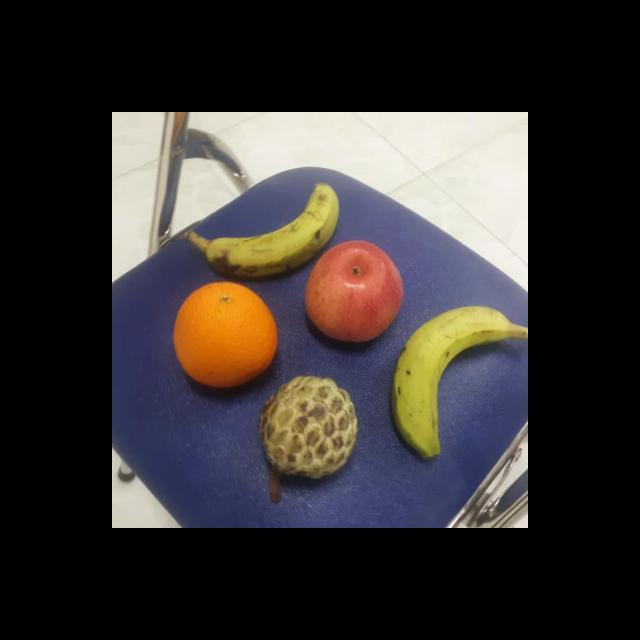Sakya fruit: (256, 373, 360, 480)
apple: (302, 238, 406, 342)
banana: (388, 300, 512, 460), (205, 176, 342, 278)
orange: (168, 278, 280, 390)
